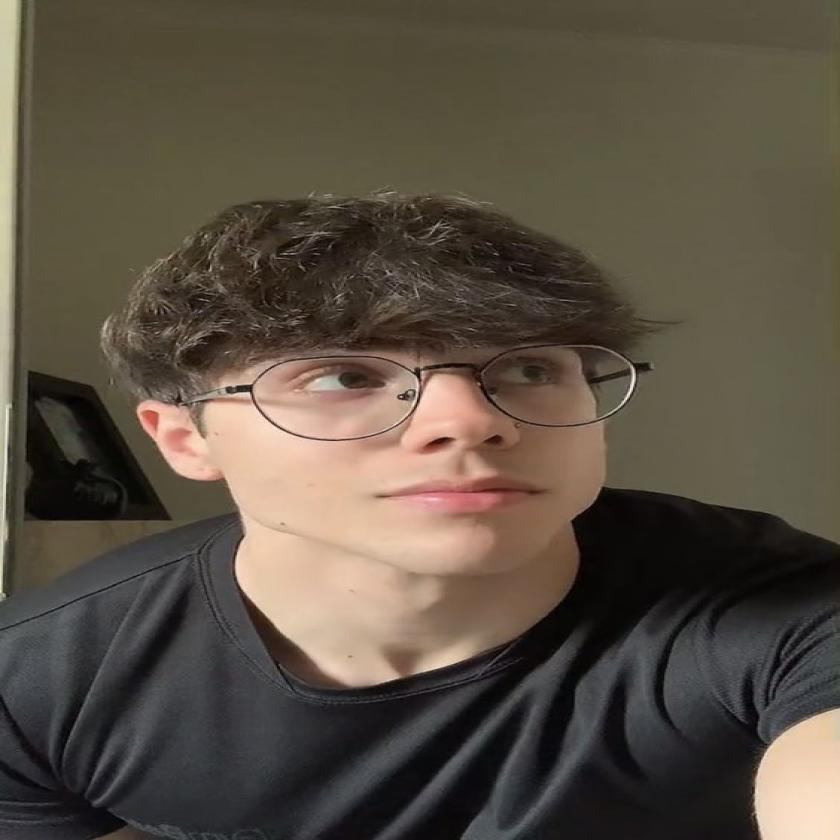Sin_casco: (117, 184, 643, 602)
